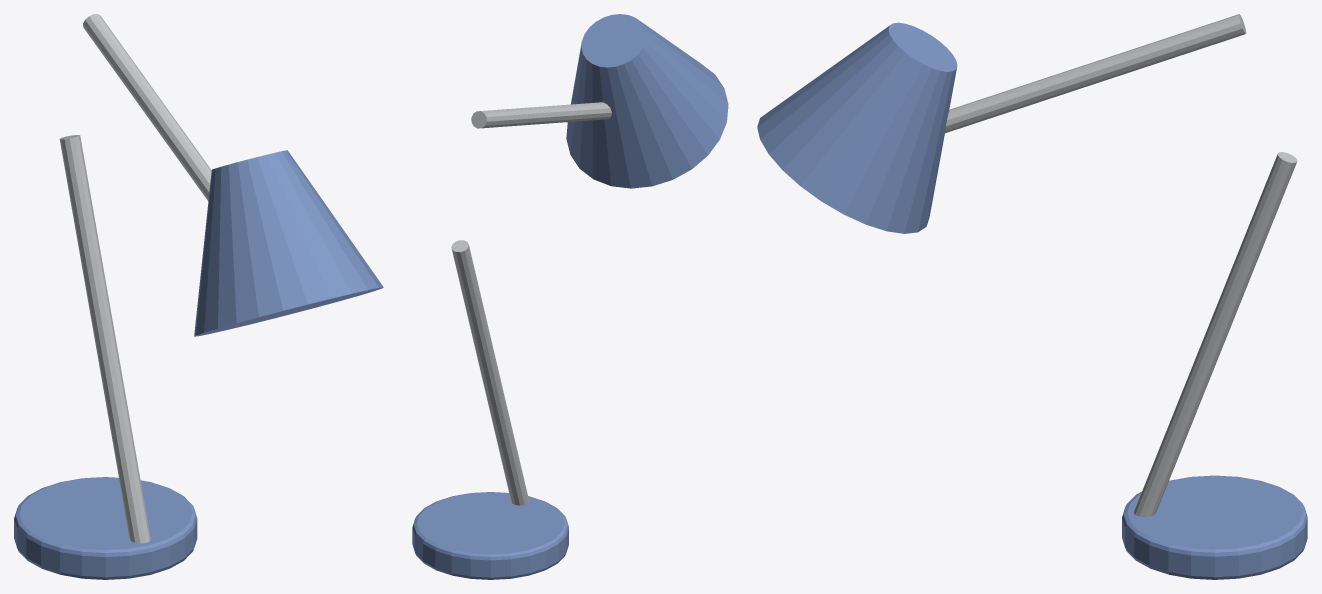
The model's file is task_lamp.fbx.
3 renders of one model, left to right at view 1: azimuth 30°, elevation 25°; view 2: azimuth 150°, elevation 25°; view 3: azimuth 270°, elevation 25°, orthographic. The views are drawn at different scales.
Parts seen in each view (by area): view 1: task_lamp; view 2: task_lamp; view 3: task_lamp.
Boxes of the visible parts, x1=… form: task_lamp: x1=14, y1=14, x2=383, y2=579; task_lamp: x1=412, y1=14, x2=728, y2=579; task_lamp: x1=757, y1=14, x2=1307, y2=579.
Size of the model in its own units: 0.15 by 0.4388 by 0.415.
